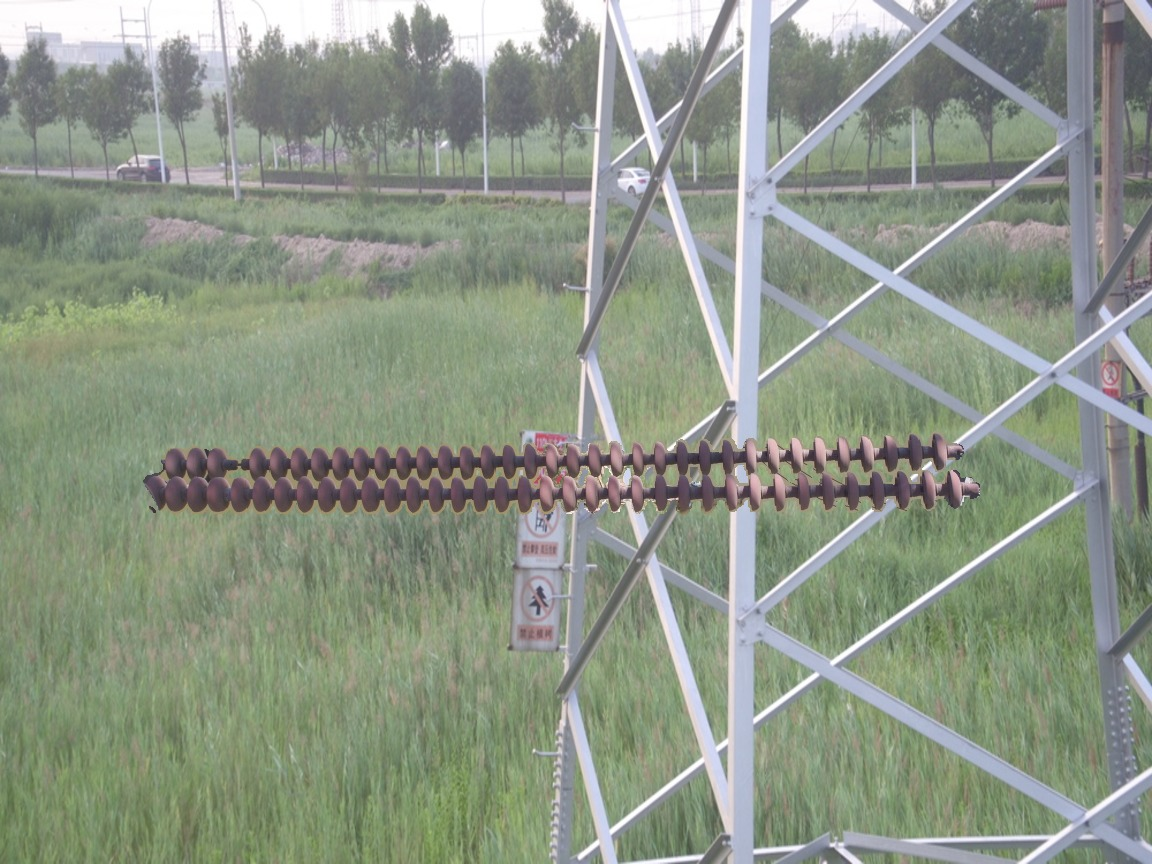defect: (202, 443, 267, 477)
